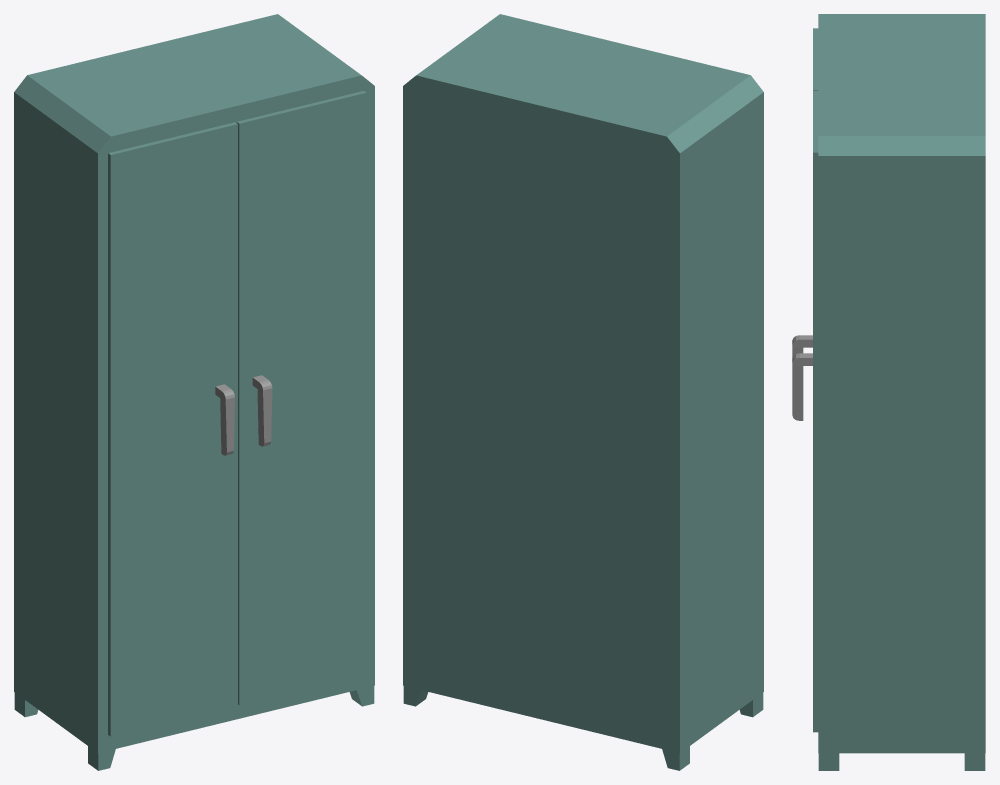
File: cabinet.fbx
The picture shows the model from 3 angles, left to right: view 1: azimuth 30°, elevation 25°; view 2: azimuth 150°, elevation 25°; view 3: azimuth 270°, elevation 25°; orthographic projection.
Parts seen in each view (by area): view 1: Cabinet; view 2: Cabinet; view 3: Cabinet.
Boxes of the visible parts, x1,y1,x2,y2 form: Cabinet: [14, 14, 374, 770]; Cabinet: [403, 14, 763, 770]; Cabinet: [792, 14, 985, 770].
Bounding box in the file's own units: 2567 × 1556 × 5593.
